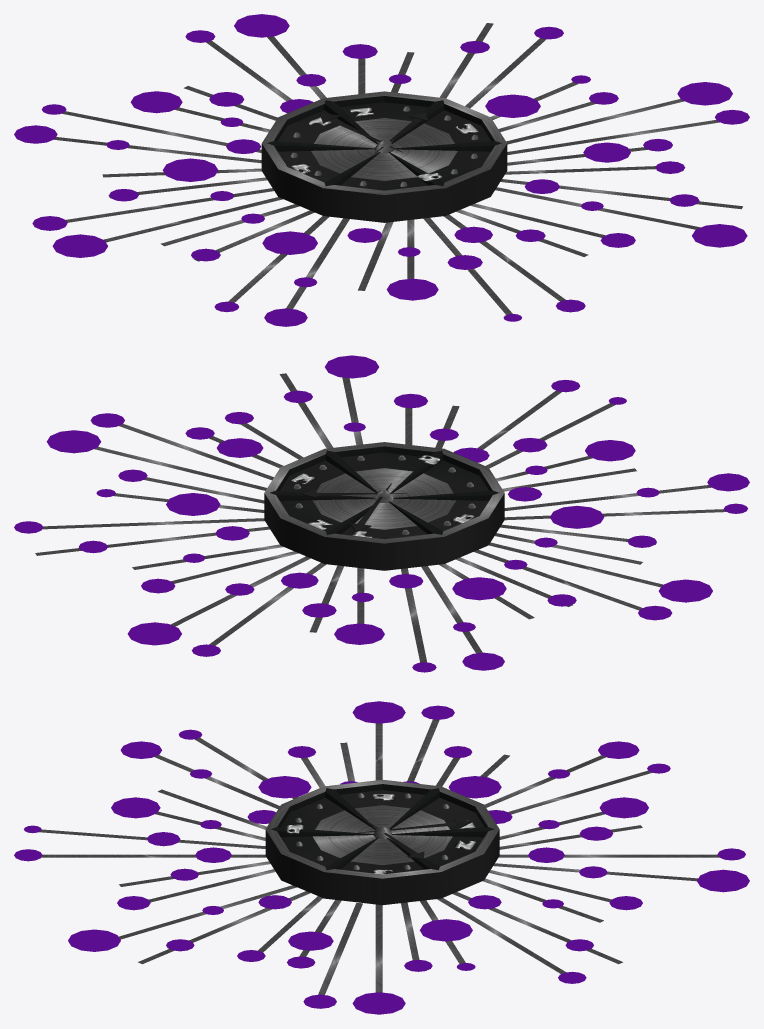
Rendered from Clock_02_B.FBX.
The picture shows the model from 3 angles, top to bottom: view 1: azimuth 30°, elevation 25°; view 2: azimuth 150°, elevation 25°; view 3: azimuth 270°, elevation 25°; orthographic projection. The views are drawn at different scales.
Parts seen in each view (by area): view 1: Starburst_Clock_B; view 2: Starburst_Clock_B; view 3: Starburst_Clock_B.
Part boxes in pixels (x1,y1,x2,y2): Starburst_Clock_B: [14, 14, 749, 326]; Starburst_Clock_B: [14, 355, 749, 672]; Starburst_Clock_B: [14, 701, 749, 1014].
Bounding box in the file's own units: 76.01 × 3.32 × 75.43.
